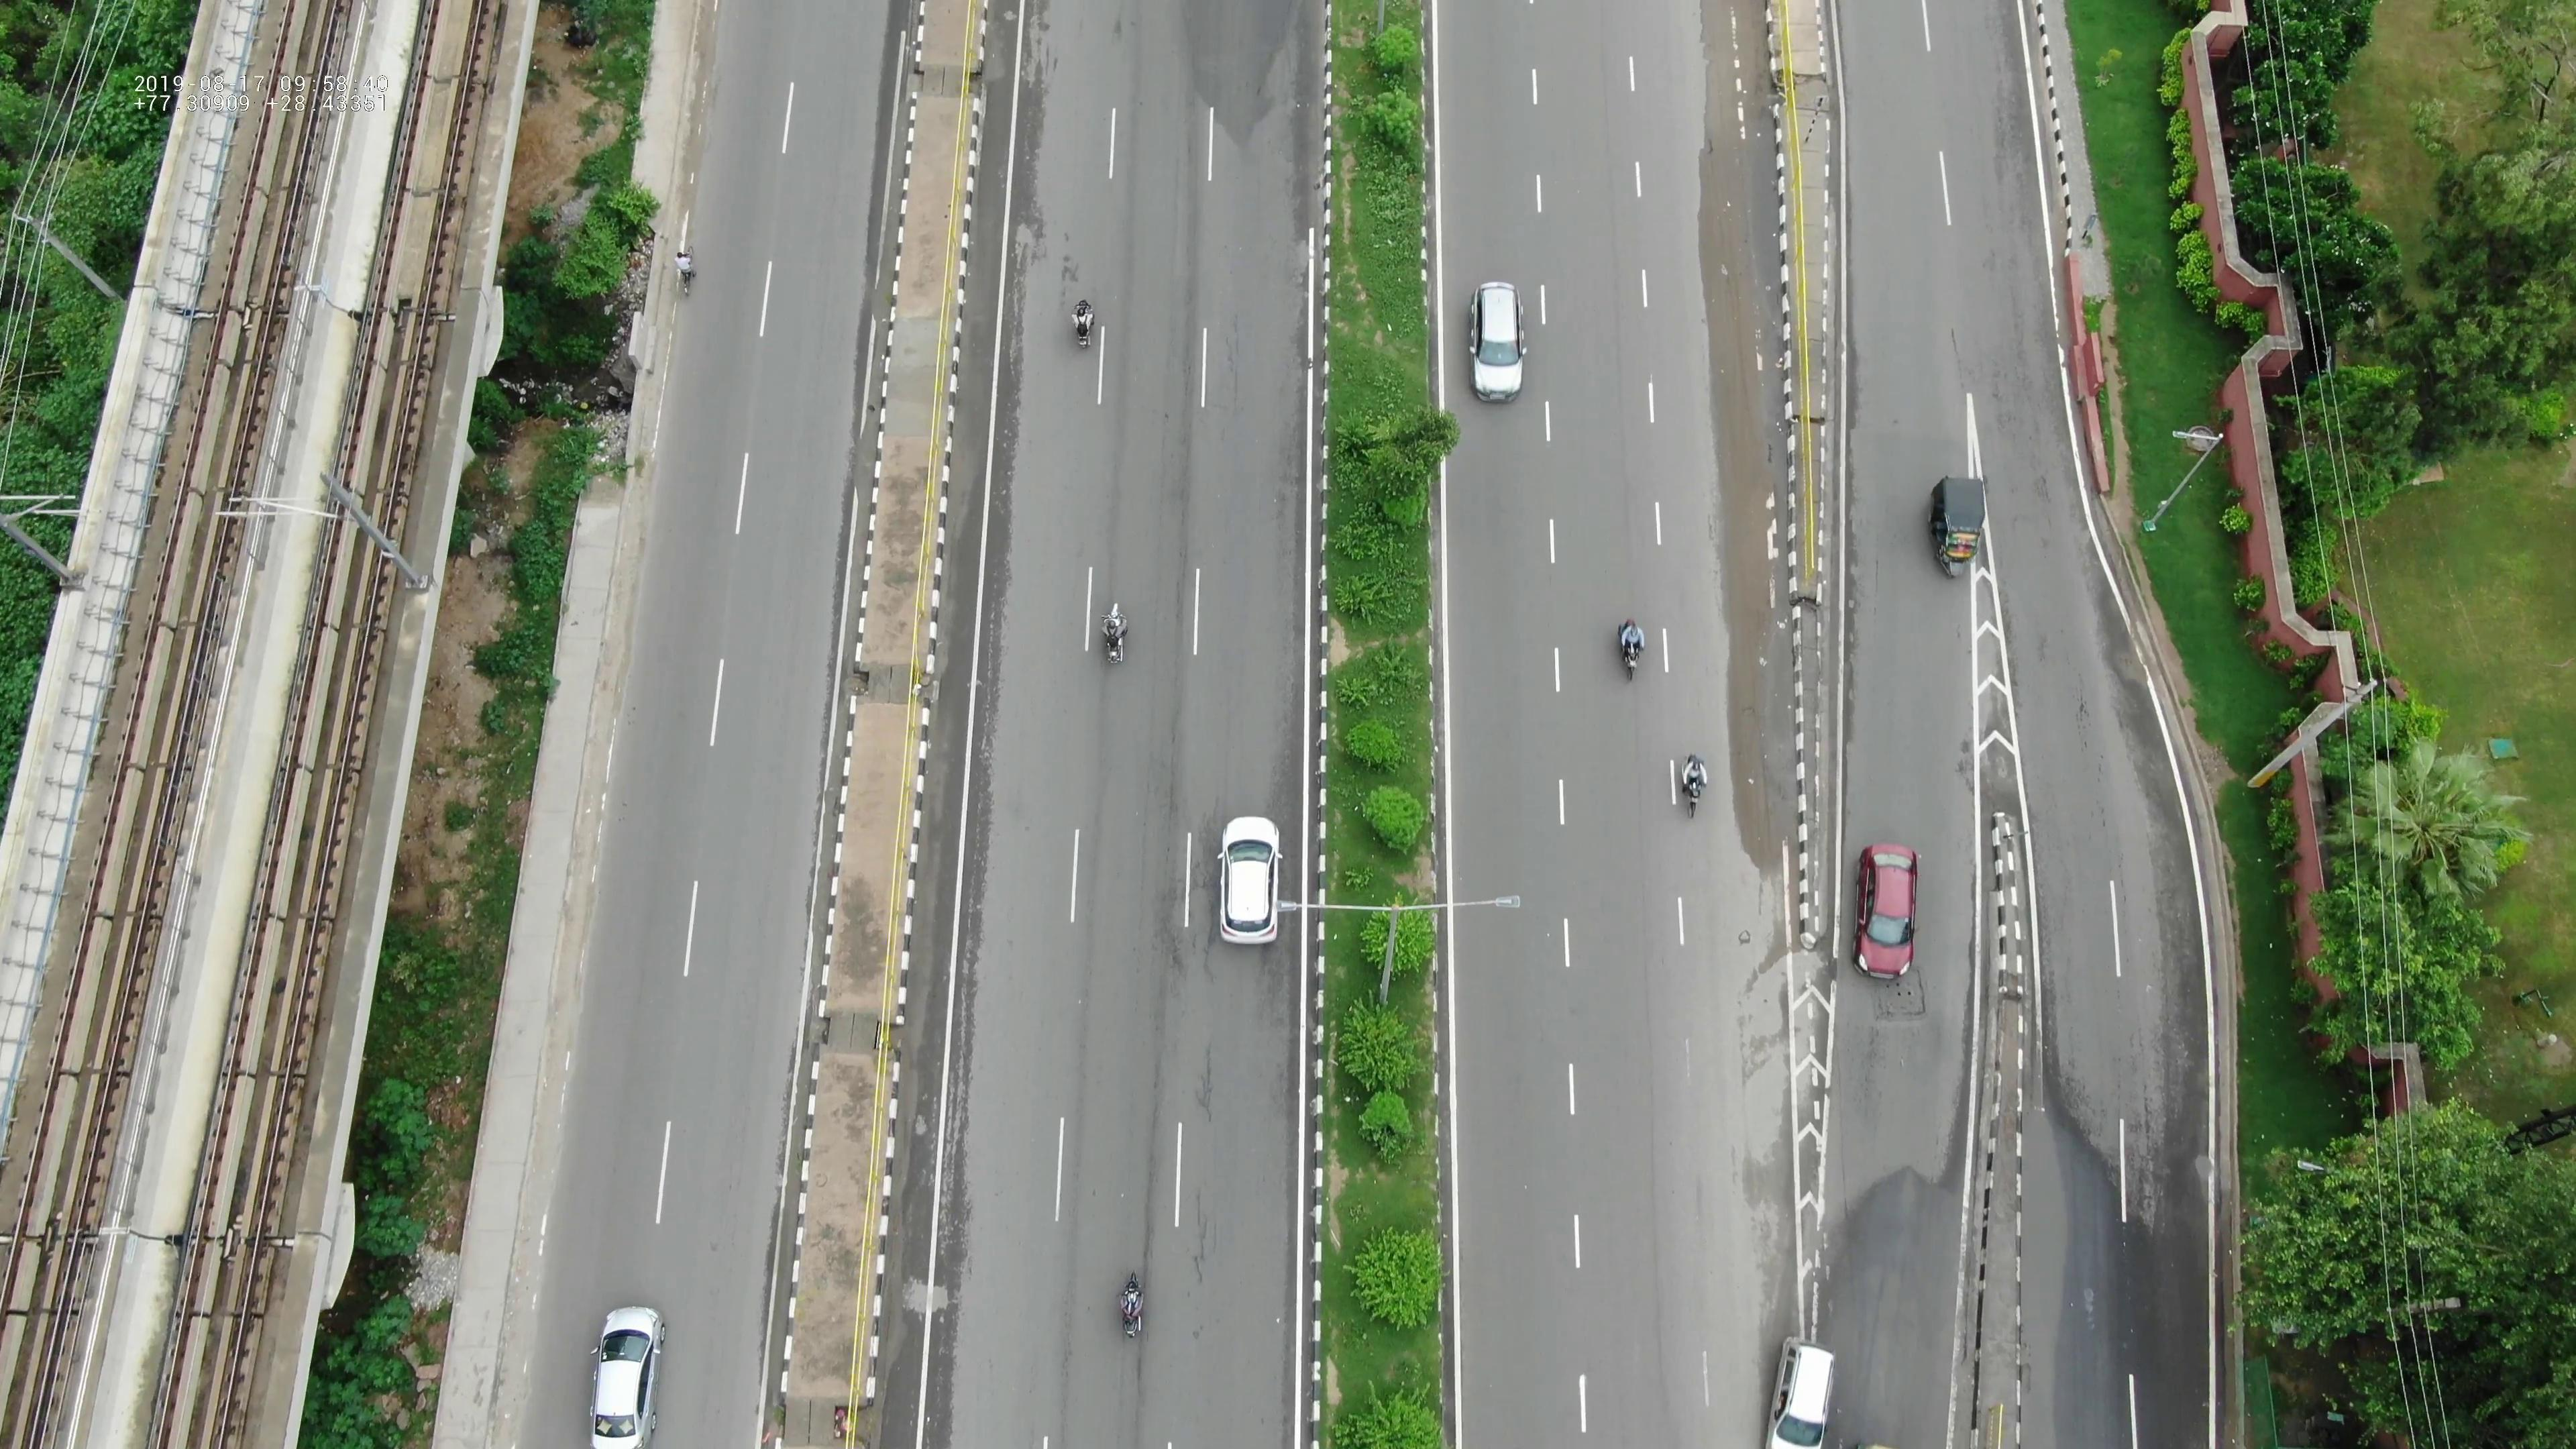Hair_cracks: (1166, 1184, 1254, 1320), (1182, 1016, 1249, 1143), (1157, 862, 1215, 964)
Muddy_road: (1698, 4, 1810, 380), (1700, 403, 1796, 807)
